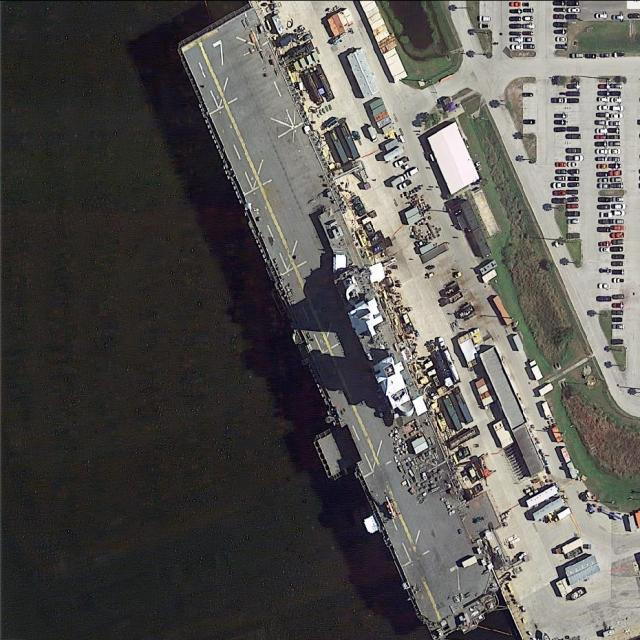Landing: (180, 10, 506, 638)
